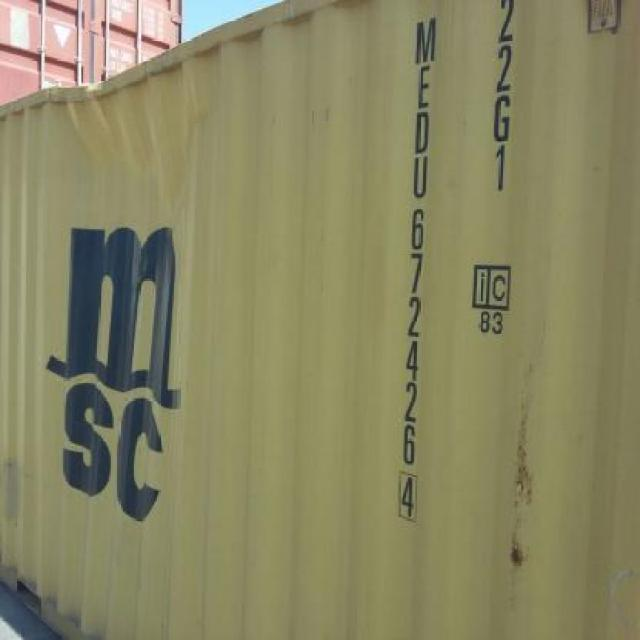Deframe: (48, 33, 227, 208)
